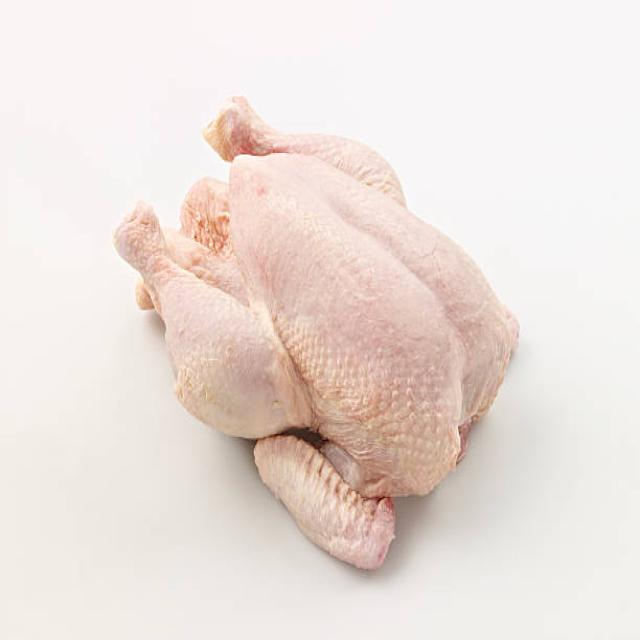Chicken: (111, 83, 536, 584)
